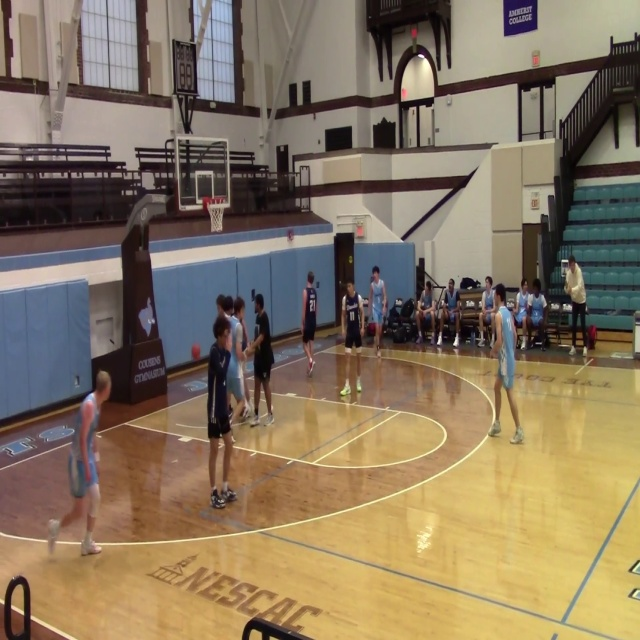Basketball: (191, 344, 200, 360), (367, 322, 376, 333)
